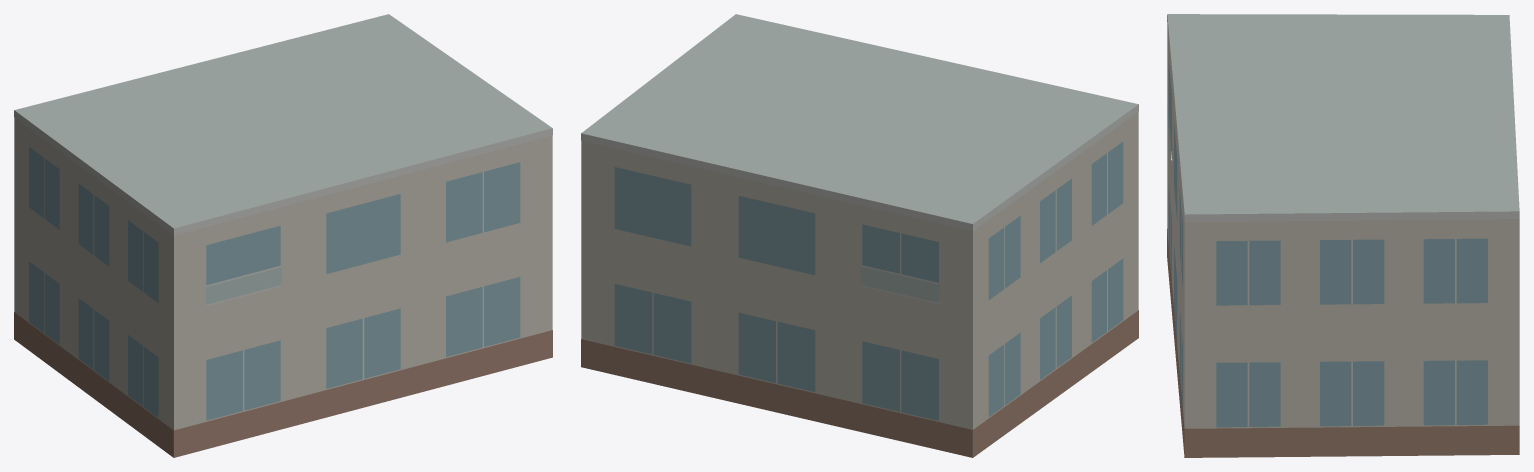
Rendered from survey-upis-32492157.glb.
3 renders of one model, left to right at view 1: azimuth 30°, elevation 25°; view 2: azimuth 150°, elevation 25°; view 3: azimuth 270°, elevation 25°, orthographic. The views are drawn at different scales.
Parts seen in each view (by area): view 1: survey-upis-32492157.tmp; view 2: survey-upis-32492157.tmp; view 3: survey-upis-32492157.tmp.
Boxes of the visible parts, x1,y1,x2,y2 form: survey-upis-32492157.tmp: (14,14,552,457); survey-upis-32492157.tmp: (581,14,1138,457); survey-upis-32492157.tmp: (1167,14,1519,457).
Bounding box in the file's own units: 13.79 × 7.8 × 10.25.
